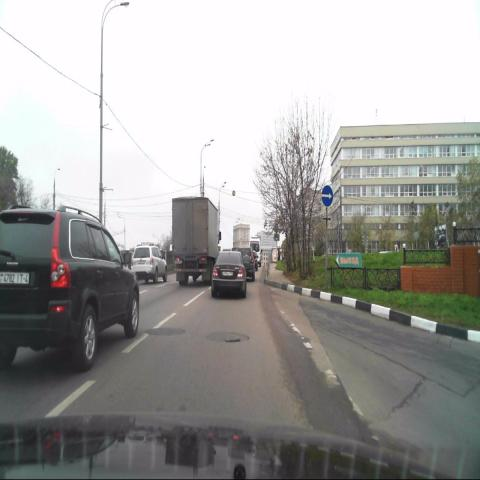4_1_2_1: (321, 184, 333, 206)
